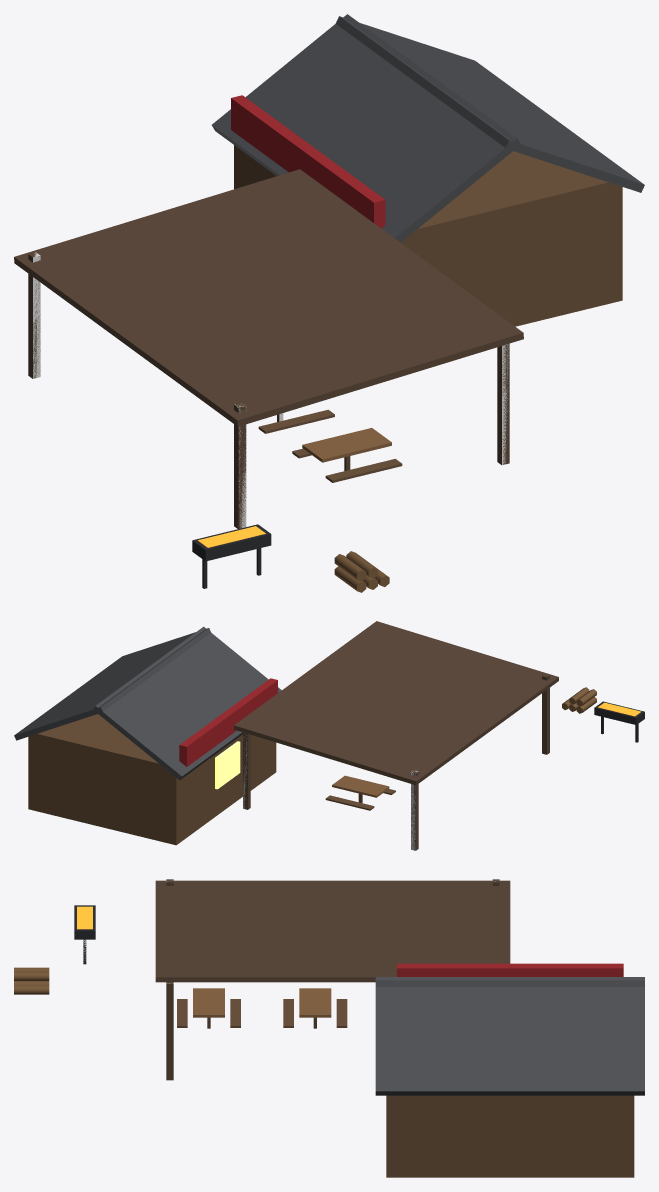
The model's file is diner-grill.glb.
3 views of the same model, one above another, from view 1: azimuth 30°, elevation 25°; view 2: azimuth 150°, elevation 25°; view 3: azimuth 270°, elevation 25° (orthographic). The views are drawn at different scales.
Visible parts, largest first — view 1: 04_#5a4636, 01_#4c4e52, 00_#6a5038, 03_paint0_noshadow, 10_#8a6440_r320, 13_#2a2c30_r320, 12_#6a5038_r320, 15_#7a5a3a_r320, solid.001; view 2: 04_#5a4636, 00_#6a5038, 01_#4c4e52, 03_paint0_noshadow, 02_#e8c070_noshadow, 10_#8a6440_r320, 13_#2a2c30_r320, 15_#7a5a3a_r320, 12_#6a5038_r320; view 3: 04_#5a4636, 01_#4c4e52, 00_#6a5038, 03_paint0_noshadow, 10_#8a6440_r320, 12_#6a5038_r320, 15_#7a5a3a_r320, 13_#2a2c30_r320.
Part boxes in pixels (x1,y1,x2,y2): 04_#5a4636: (14, 169, 523, 528); 01_#4c4e52: (212, 14, 644, 242); 00_#6a5038: (234, 145, 622, 326); 03_paint0_noshadow: (231, 95, 385, 228); 10_#8a6440_r320: (302, 428, 391, 462); 13_#2a2c30_r320: (192, 524, 271, 588); 12_#6a5038_r320: (258, 409, 402, 482); 15_#7a5a3a_r320: (334, 551, 389, 592); solid.001: (33, 252, 40, 378); 04_#5a4636: (233, 621, 558, 850); 00_#6a5038: (28, 714, 276, 845); 01_#4c4e52: (14, 626, 281, 780); 03_paint0_noshadow: (179, 678, 277, 766); 02_#e8c070_noshadow: (215, 741, 240, 789); 10_#8a6440_r320: (332, 775, 389, 797); 13_#2a2c30_r320: (594, 701, 644, 742); 15_#7a5a3a_r320: (562, 687, 596, 713); 12_#6a5038_r320: (325, 789, 395, 810); 04_#5a4636: (155, 879, 510, 1080); 01_#4c4e52: (375, 977, 644, 1095); 00_#6a5038: (386, 1095, 634, 1177); 03_paint0_noshadow: (397, 963, 623, 976); 10_#8a6440_r320: (193, 988, 331, 1017); 12_#6a5038_r320: (177, 999, 347, 1027); 15_#7a5a3a_r320: (14, 967, 49, 994); 13_#2a2c30_r320: (74, 905, 95, 964).
Bounding box in the file's own units: 16.25 × 4.8 × 17.8.
